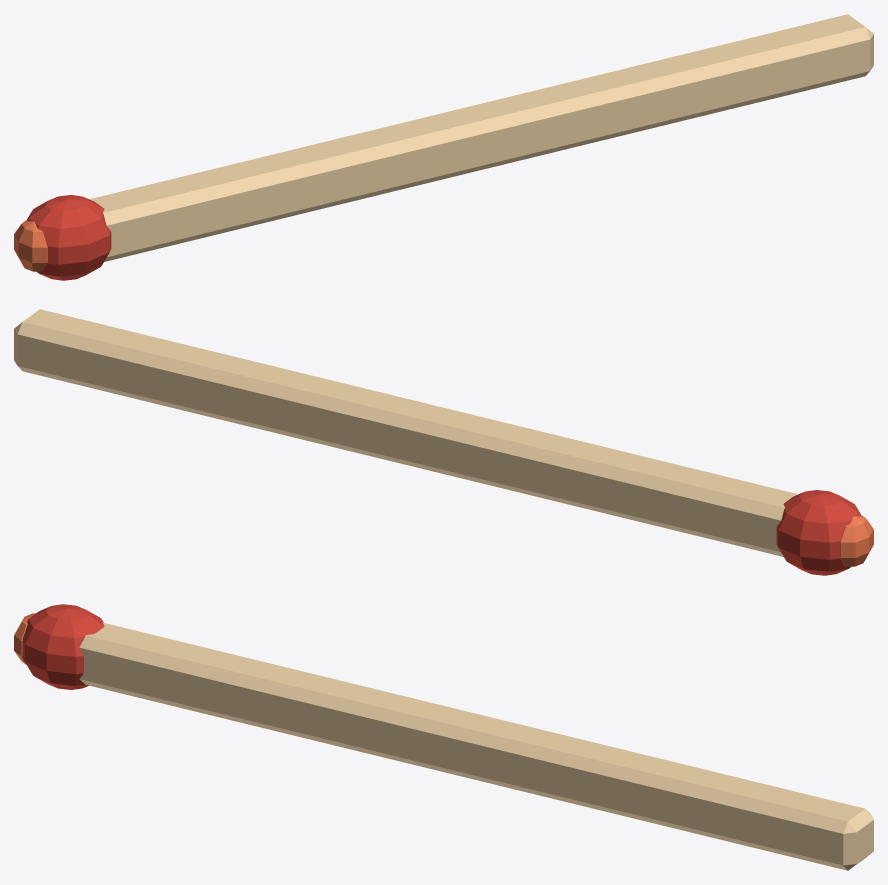
Rendered from match.glb.
The picture shows the model from 3 angles, top to bottom: view 1: azimuth 30°, elevation 25°; view 2: azimuth 150°, elevation 25°; view 3: azimuth 330°, elevation 25°; orthographic projection.
Visible parts, largest first — view 1: match_body, match_head, match_tip; view 2: match_body, match_head, match_tip; view 3: match_body, match_head.
Boxes of the visible parts, x1=… form: match_body: x1=90, y1=14, x2=873, y2=261; match_head: x1=27, y1=195, x2=111, y2=280; match_tip: x1=14, y1=220, x2=47, y2=271; match_body: x1=14, y1=309, x2=797, y2=556; match_head: x1=776, y1=490, x2=860, y2=575; match_tip: x1=840, y1=515, x2=873, y2=566; match_body: x1=79, y1=622, x2=873, y2=870; match_head: x1=22, y1=604, x2=104, y2=689.
Bounding box in the file's own units: 1.08 × 0.0936 × 0.0913.
